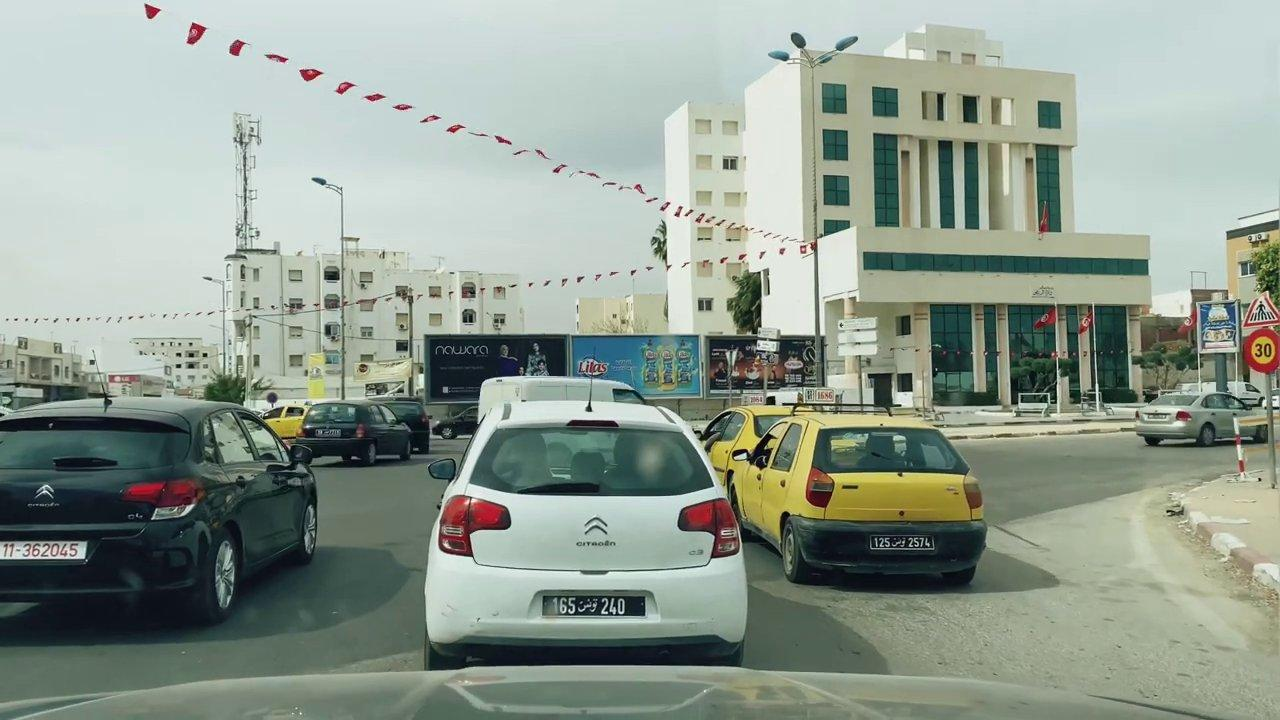pedestrian crossing ahead: (1241, 292, 1280, 327)
speed limit 30: (1240, 328, 1280, 372)
